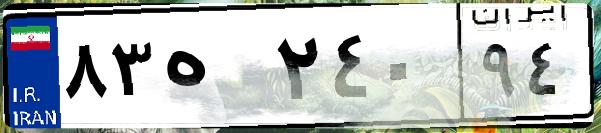0: (385, 28, 445, 110)
2: (270, 28, 330, 110)
3: (110, 28, 158, 98)
4: (330, 28, 385, 110), (525, 38, 570, 115)
8: (57, 26, 110, 100)
9: (475, 38, 525, 113)
ه: (158, 20, 270, 120)
